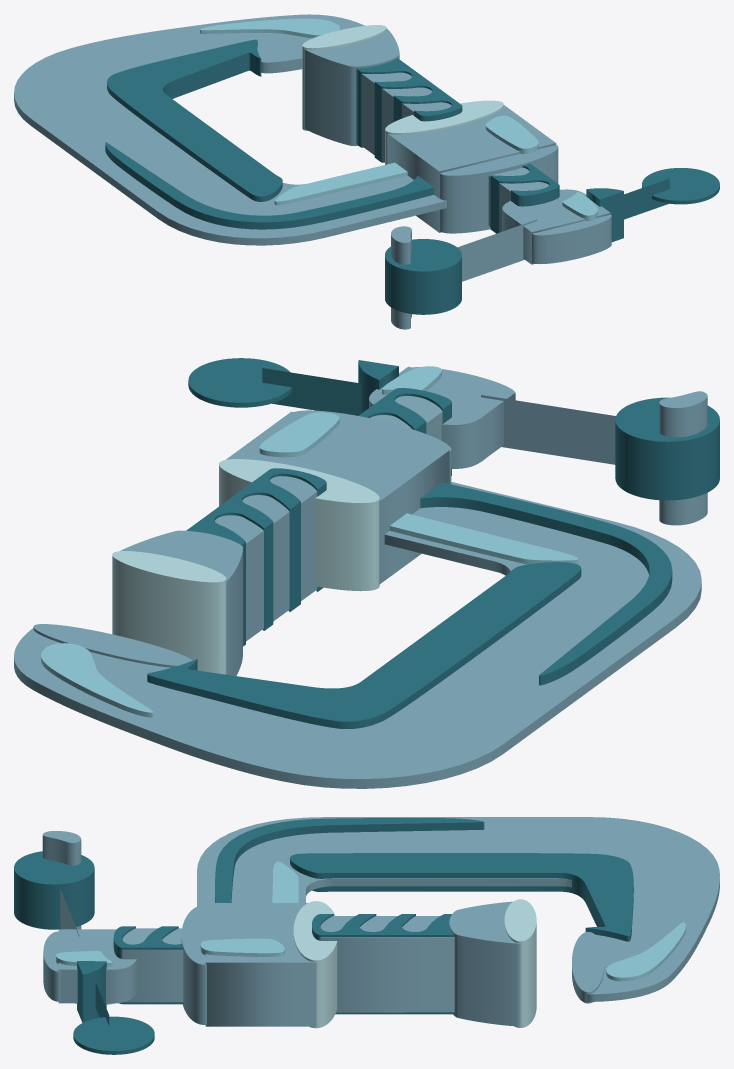
The model's file is emoji_u1f5dc.glb.
The picture shows the model from 3 angles, top to bottom: view 1: azimuth 30°, elevation 25°; view 2: azimuth 150°, elevation 25°; view 3: azimuth 270°, elevation 25°; orthographic projection. The views are drawn at different scales.
Visible parts, largest first — view 1: emoji_u1f5dc; view 2: emoji_u1f5dc; view 3: emoji_u1f5dc.
Part boxes in pixels (x1,y1,x2,y2): emoji_u1f5dc: (14, 14, 719, 329); emoji_u1f5dc: (14, 358, 719, 788); emoji_u1f5dc: (14, 817, 719, 1054).
Size of the model in its own units: 0.0264 by 0.0048 by 0.034.
